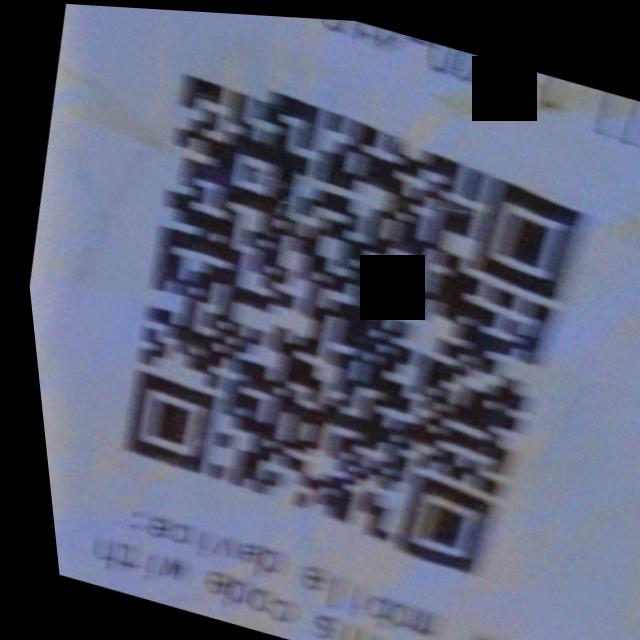QR_CODE: (54, 37, 635, 620)
